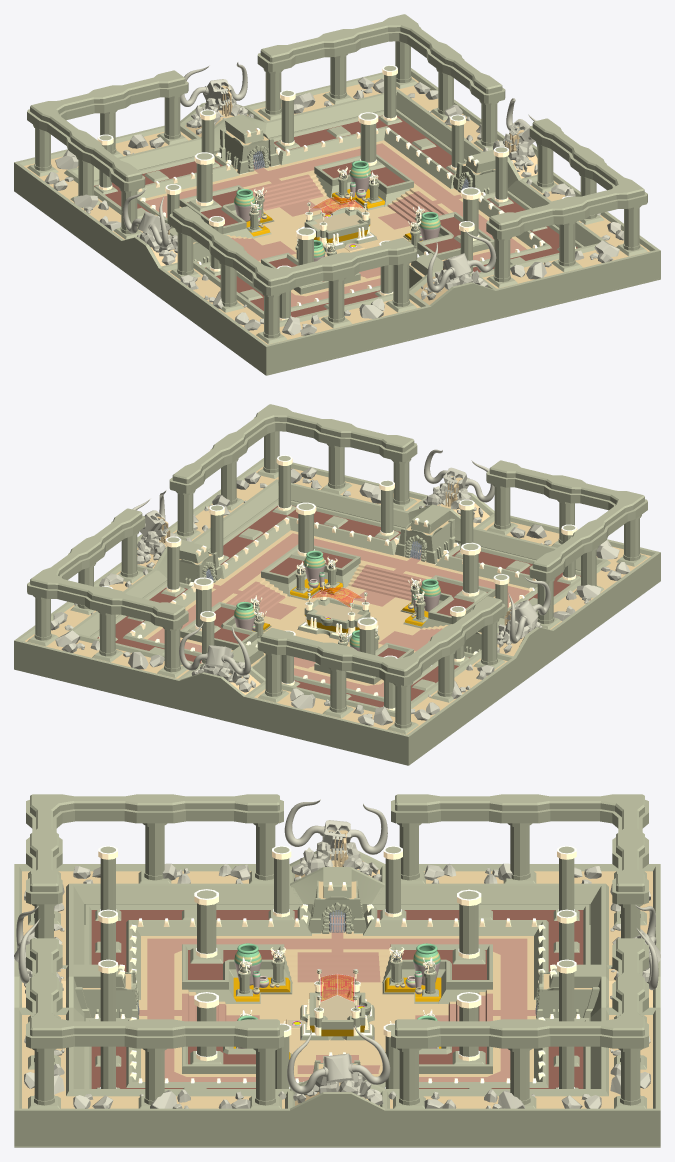
The model's file is aarena_DesertColliseum.fbx.
3 renders of one model, top to bottom at view 1: azimuth 30°, elevation 25°; view 2: azimuth 150°, elevation 25°; view 3: azimuth 270°, elevation 25°, orthographic. The views are drawn at different scales.
Parts seen in each view (by area): view 1: roof2 (×4), columns (×4), corner_out4, roof1 (×4), corner_out3, corner_out1, gate_back5 (×4), boulders (×4), columns_outer, ground_floor2_mid, corner_out2, wall_mid2 (+16 smaller); view 2: roof2 (×4), columns (×4), corner_out1, roof1 (×4), corner_out2, corner_out4, gate_back5 (×4), columns_outer, boulders (×4), ground_floor2_mid, corner_out3, wall_mid3 (+16 smaller); view 3: roof2 (×4), roof1 (×4), corner_out3, corner_out2, ground_floor2_mid, columns (×4), columns_outer, gate_back5 (×4), corner_out1, corner_out4, wall_mid1, boulders (×4) (+28 smaller).
Boxes of the visible parts, left/top/right/bottom form: roof2 (×4): left=30, top=14, right=644, bottom=286; columns (×4): left=33, top=41, right=641, bottom=338; corner_out4: left=147, top=260, right=447, bottom=375; roof1 (×4): left=27, top=27, right=647, bottom=295; corner_out3: left=479, top=172, right=660, bottom=323; corner_out1: left=14, top=123, right=201, bottom=277; gate_back5 (×4): left=122, top=102, right=537, bottom=331; boulders (×4): left=44, top=77, right=623, bottom=335; columns_outer: left=97, top=65, right=575, bottom=320; ground_floor2_mid: left=145, top=140, right=531, bottom=306; corner_out2: left=244, top=68, right=504, bottom=159; wall_mid2: left=269, top=109, right=466, bottom=188; roof2 (×4): left=30, top=404, right=644, bottom=676; columns (×4): left=33, top=431, right=641, bottom=728; corner_out1: left=227, top=650, right=527, bottom=765; roof1 (×4): left=27, top=417, right=647, bottom=685; corner_out2: left=14, top=562, right=201, bottom=713; corner_out4: left=473, top=513, right=660, bottom=668; gate_back5 (×4): left=137, top=492, right=552, bottom=721; columns_outer: left=99, top=455, right=577, bottom=710; boulders (×4): left=51, top=467, right=630, bottom=725; ground_floor2_mid: left=143, top=530, right=529, bottom=696; corner_out3: left=168, top=458, right=428, bottom=549; wall_mid3: left=208, top=499, right=405, bottom=578; roof2 (×4): left=30, top=794, right=644, bottom=1036; roof1 (×4): left=26, top=800, right=648, bottom=1048; corner_out3: left=14, top=1007, right=319, bottom=1147; corner_out2: left=355, top=1007, right=660, bottom=1147; ground_floor2_mid: left=139, top=915, right=536, bottom=1081; columns (×4): left=32, top=823, right=642, bottom=1105; columns_outer: left=98, top=845, right=576, bottom=1088; gate_back5 (×4): left=14, top=851, right=660, bottom=1147; corner_out1: left=364, top=864, right=660, bottom=968; corner_out4: left=14, top=864, right=310, bottom=968; wall_mid1: left=363, top=904, right=589, bottom=999; boulders (×4): left=24, top=863, right=650, bottom=1108.
Size of the model in its own units: 84 by 17.97 by 92.99.
